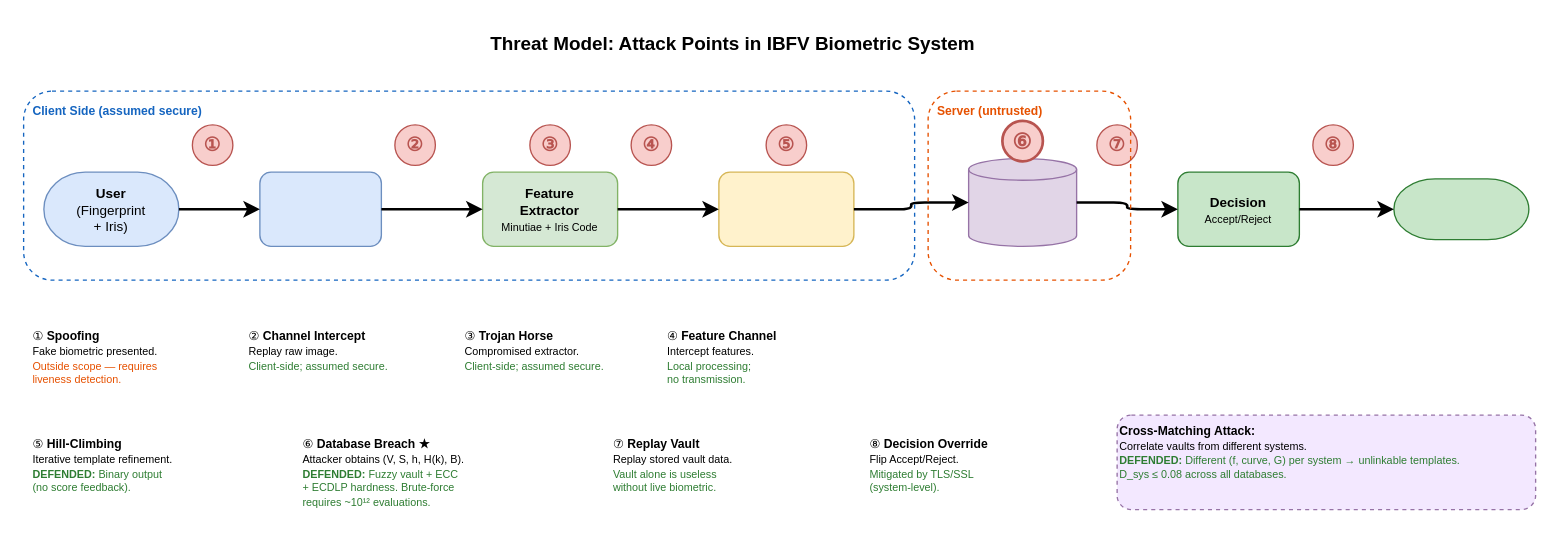
The diagram is 1559 pixels wide and 539 high, and some of its shapes have lost their labels. The shapes that lost their labels are listed below. From the top down, each one's box as (x1, y1, x2, y2) in pixels, then its label:
(259, 171, 381, 246): Sensor FP Scanner + NIR Camera
(718, 171, 854, 246): IBFV Engine Vault Create / Vault Unlock
(967, 157, 1077, 246): Database (V, S, h, H(k), B)
(1393, 178, 1529, 240): Application
